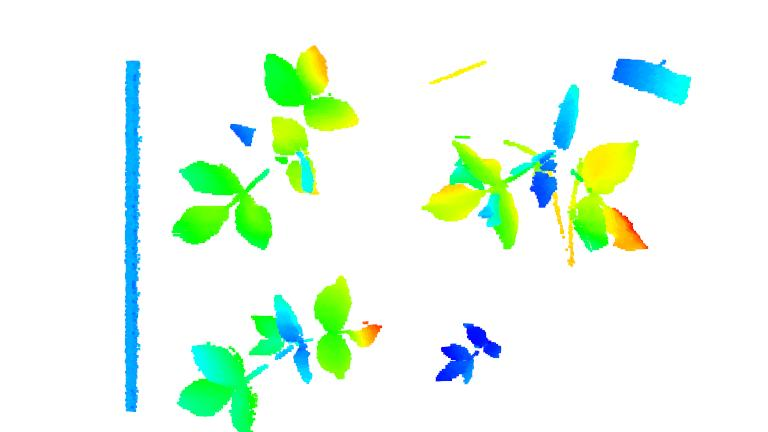mungbean: (163, 44, 359, 250), (431, 81, 651, 258), (176, 269, 388, 432), (424, 321, 505, 389)
